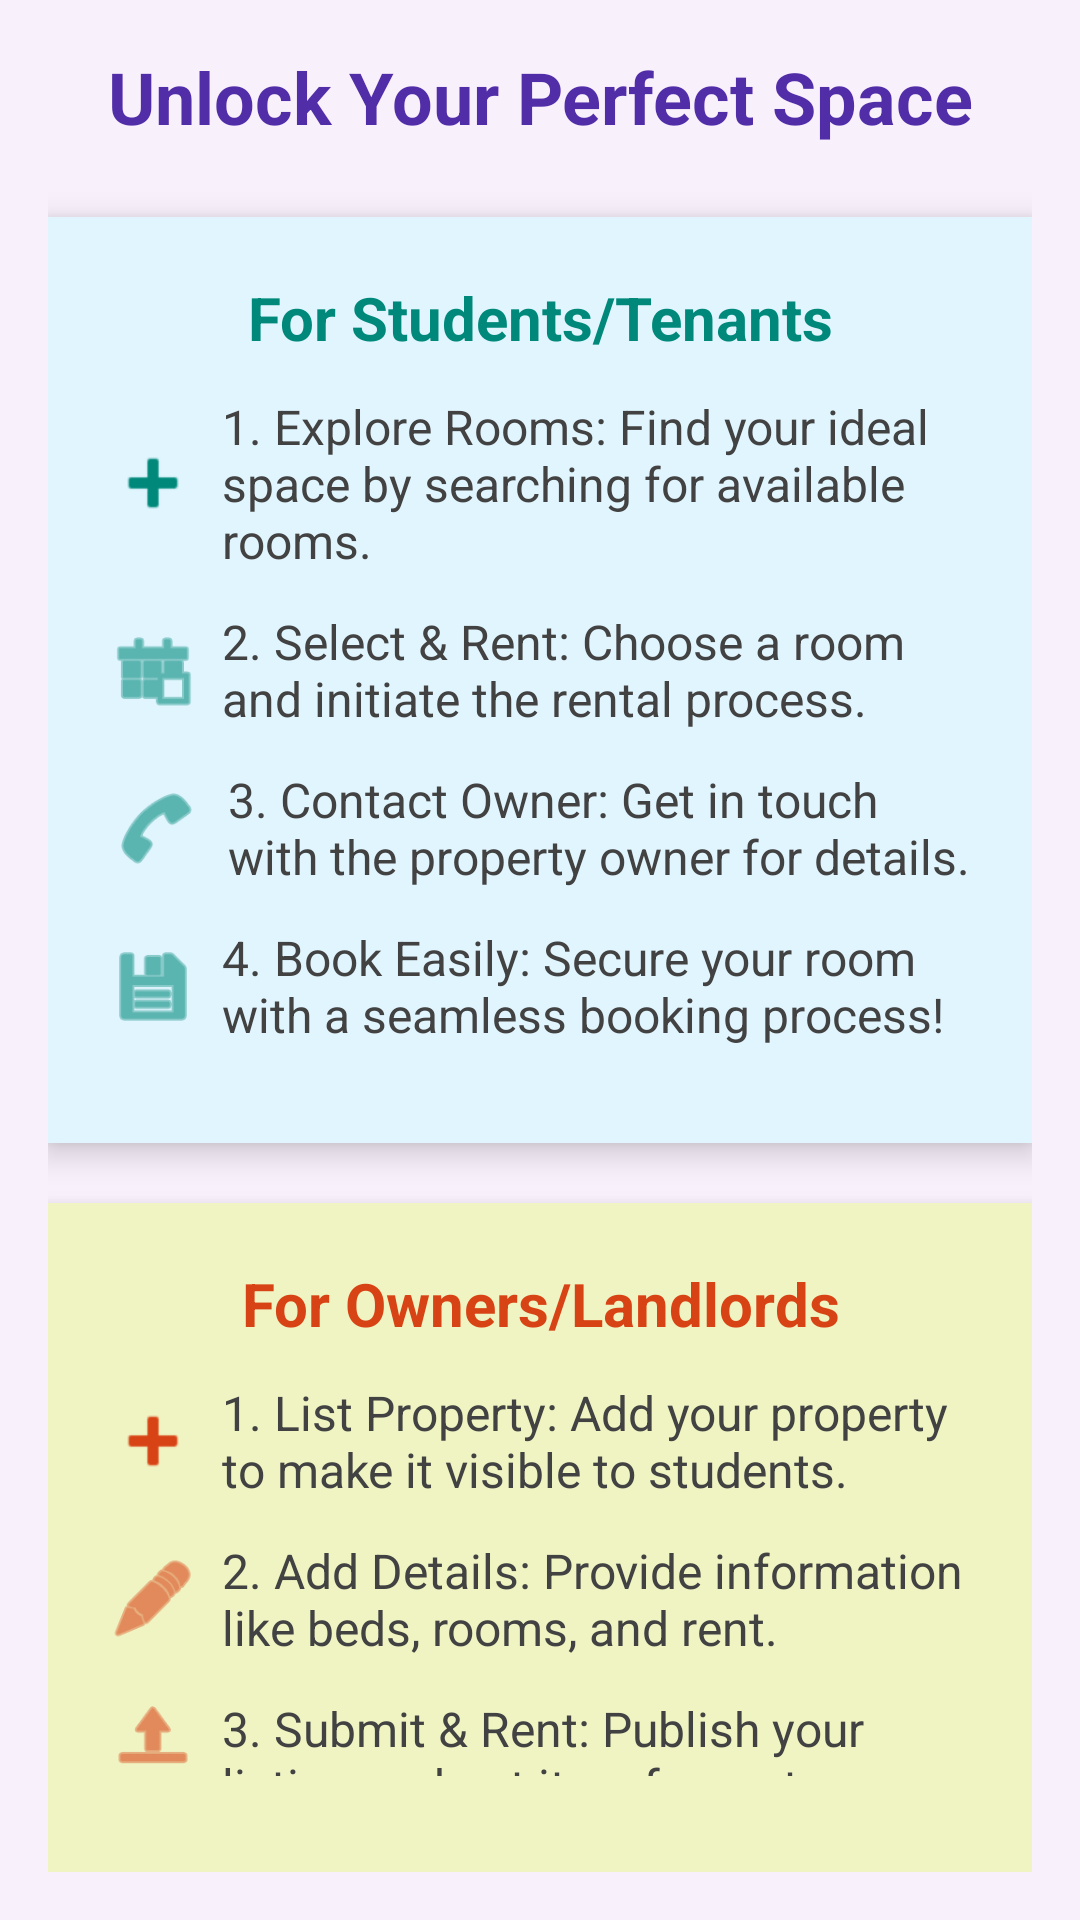

Icons on this 1080 × 1920 Android screen, each with the point to tap as [x,y]:
call: [156,828]
edit: [153,1598]
save: [153,986]
today: [154,671]
